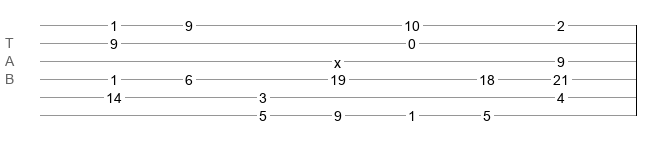0: (408, 36, 416, 46)
1: (110, 72, 118, 82), (110, 18, 118, 28), (408, 108, 416, 118)
10: (404, 18, 420, 28)
14: (106, 90, 122, 100)
18: (479, 72, 495, 82)
19: (330, 72, 346, 82)
2: (557, 18, 565, 28)
21: (553, 72, 569, 82)
3: (259, 90, 267, 100)
4: (557, 90, 565, 100)
5: (259, 108, 267, 118), (483, 108, 491, 118)
6: (185, 72, 193, 82)
9: (110, 36, 118, 46), (185, 18, 193, 28), (334, 108, 342, 118), (557, 54, 565, 64)
x: (334, 55, 341, 63)
